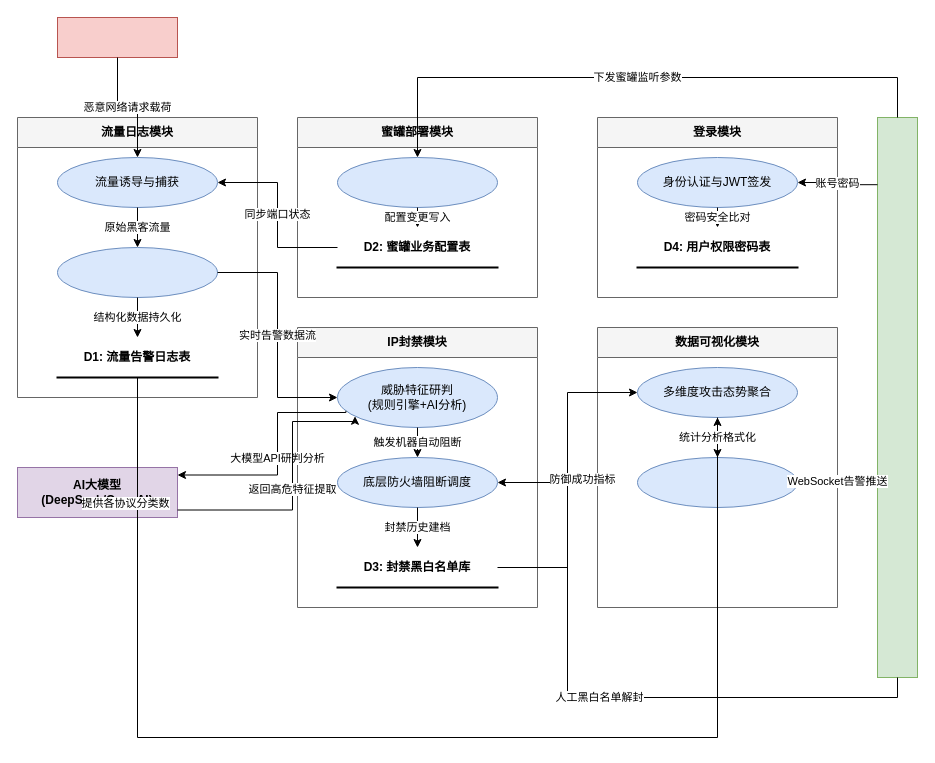
Some shapes in this 935 by 763 pixel diagram are drawn without their labels. The box of each missing label's shape, as (x1, y1, x2, y2) in pixels:
外部攻击者: (56, 16, 178, 58)
大屏图表与告警渲染: (636, 456, 798, 508)
日志解析提取: (56, 246, 218, 298)
服务配置与部署管控: (336, 156, 498, 208)
系 统 管 理 员: (876, 116, 918, 678)
